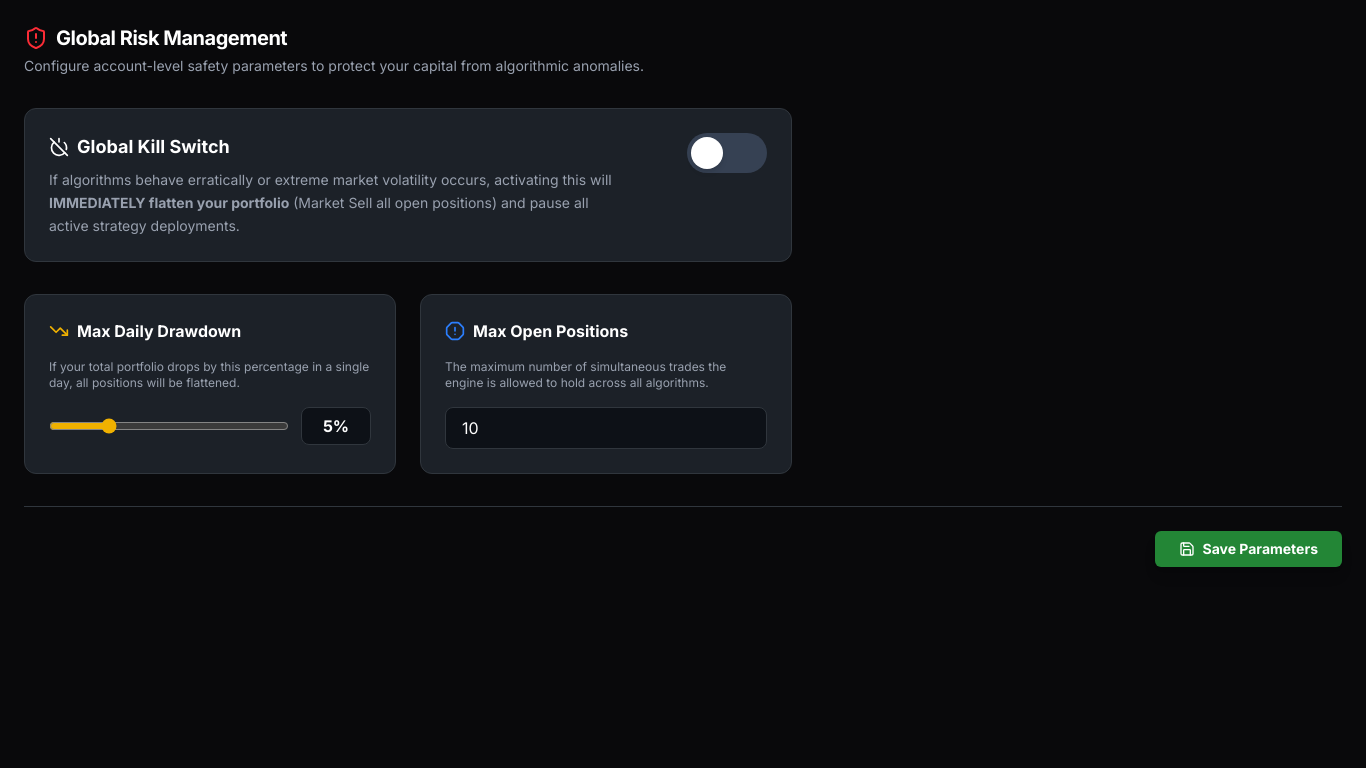
Test: RiskManagement Component › engages global kill switch after confirmation
Click the 1st button at (727, 153), box [687,133,767,173]
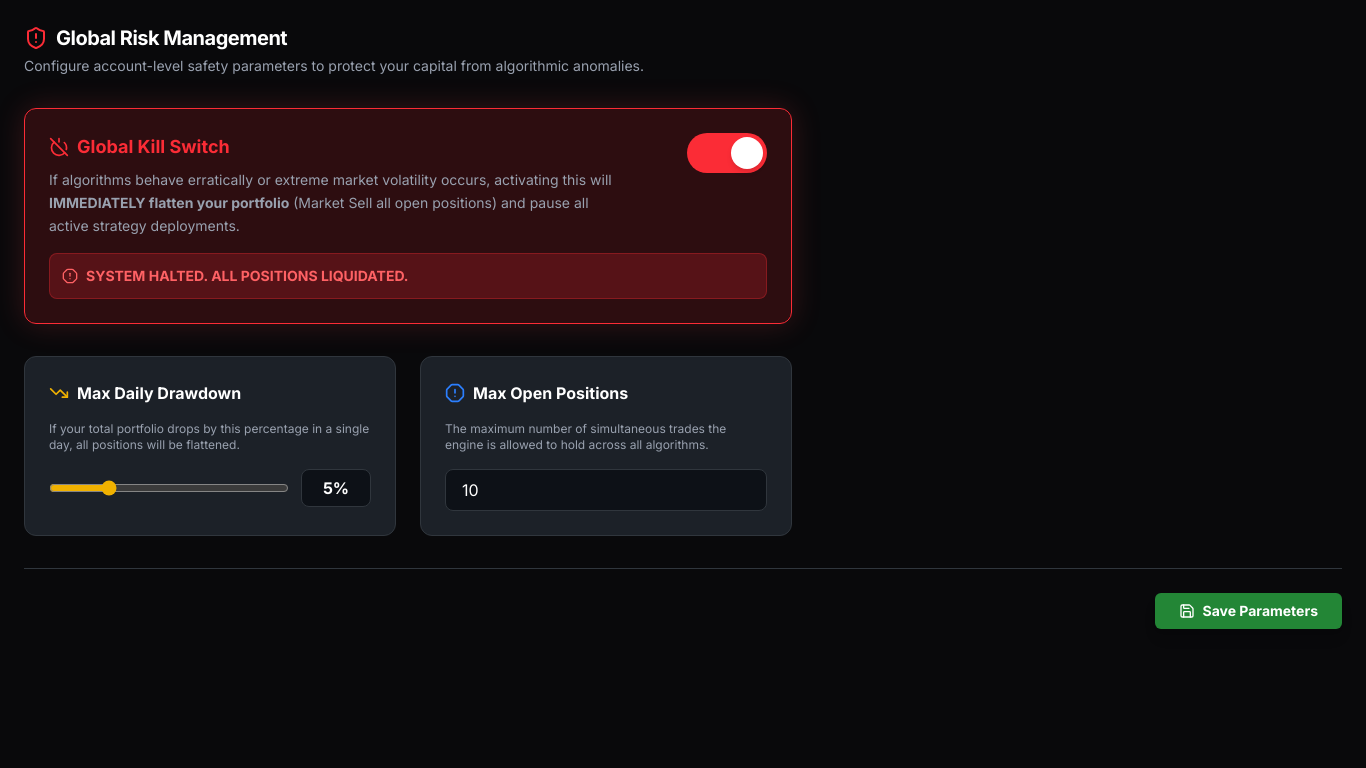
Expected: the text "SYSTEM HALTED. ALL POSITIONS LIQUIDATED." is shown, [49,253,767,299]
Click the 1st button at (727, 153), box [687,133,767,173]
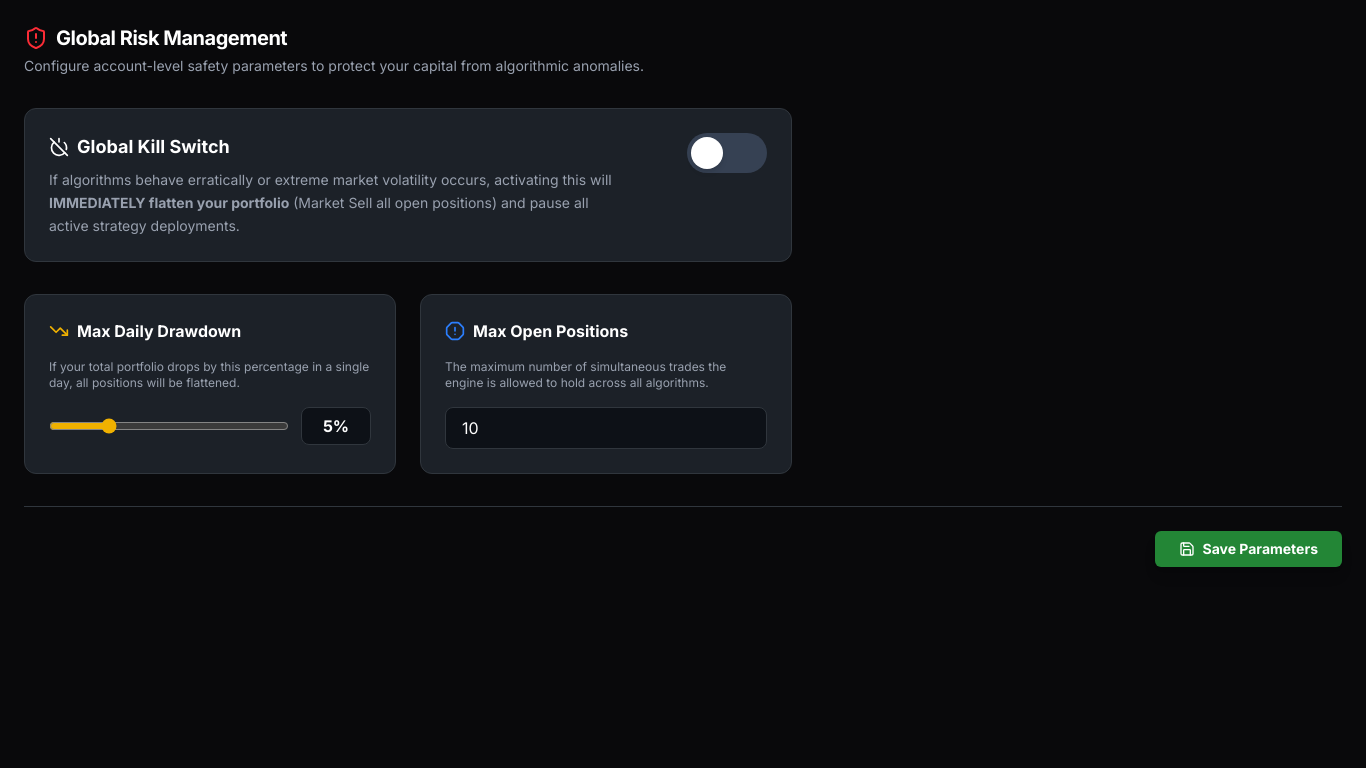
Expected: the text "SYSTEM HALTED. ALL POSITIONS LIQUIDATED." is gone
